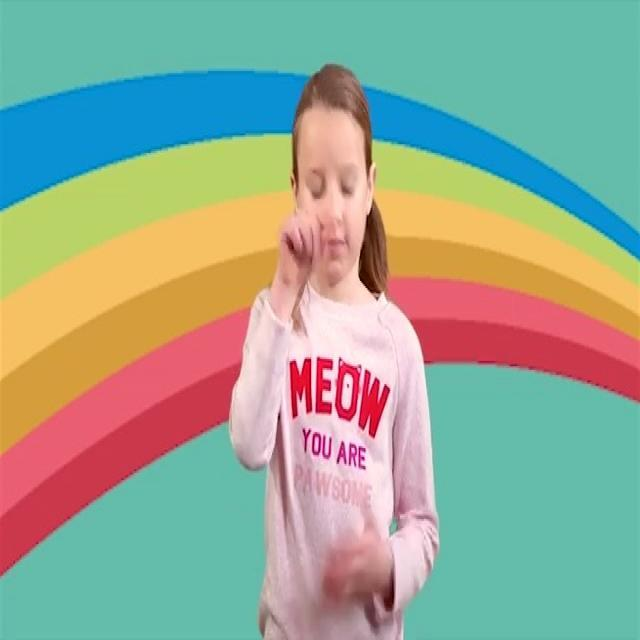chicken: (269, 181, 354, 338)
